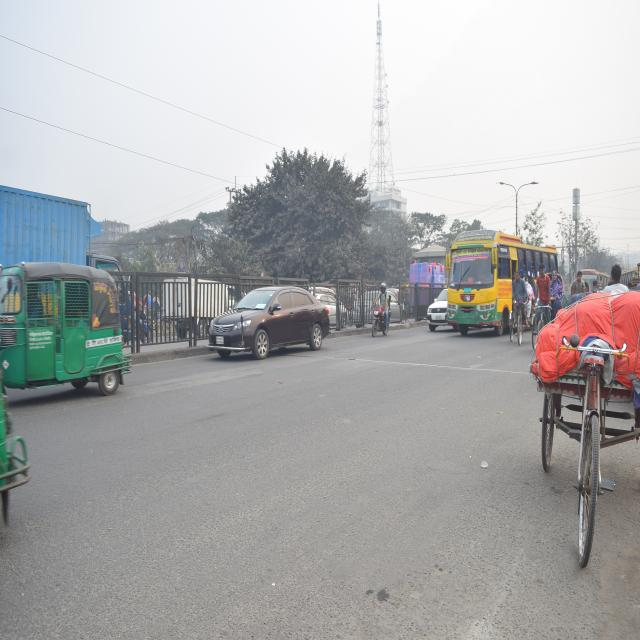bus: (447, 226, 570, 336)
car: (196, 272, 343, 371)
motorbike: (366, 296, 398, 347)
